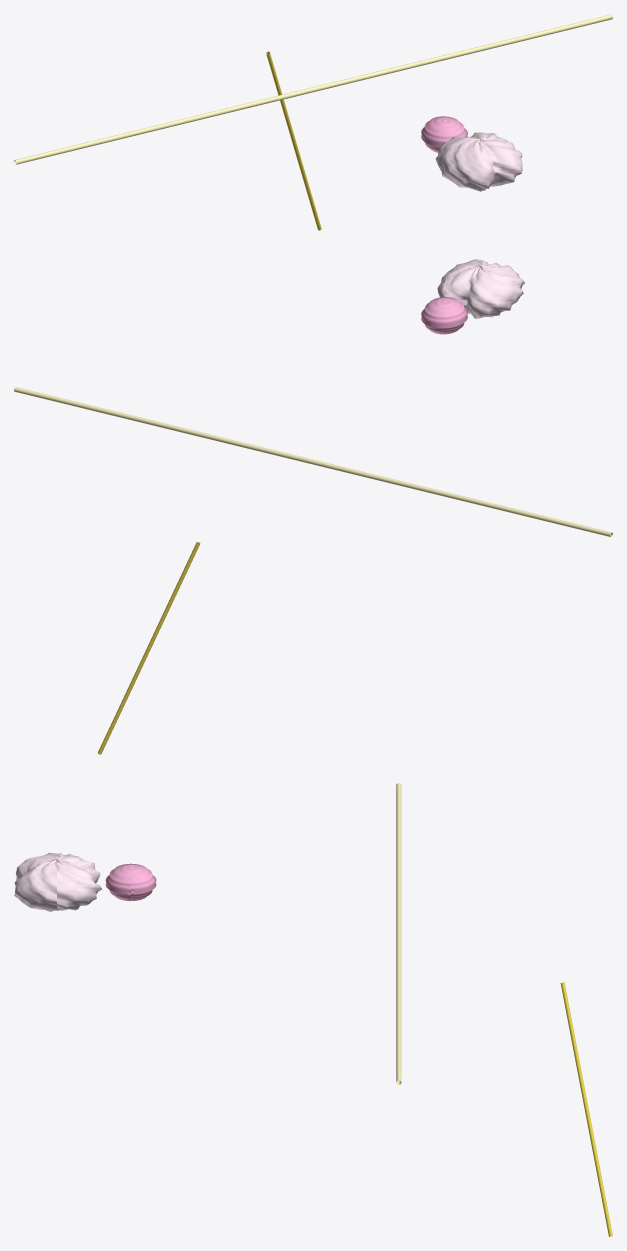
Rendered from nervous.glb.
The picture shows the model from 3 angles, top to bottom: view 1: azimuth 30°, elevation 25°; view 2: azimuth 150°, elevation 25°; view 3: azimuth 270°, elevation 25°; orthographic projection. The views are drawn at different scales.
Parts seen in each view (by area): view 1: Mesh_Ovine_Cerebrum, Mesh_Ovine_MedullaSpinalis, Mesh_Ovine_Cerebellum, Mesh_Ovine_NervusIschiadicus; view 2: Mesh_Ovine_Cerebrum, Mesh_Ovine_MedullaSpinalis, Mesh_Ovine_Cerebellum, Mesh_Ovine_NervusIschiadicus; view 3: Mesh_Ovine_Cerebrum, Mesh_Ovine_MedullaSpinalis, Mesh_Ovine_Cerebellum, Mesh_Ovine_NervusIschiadicus.
Part boxes in pixels (x1,y1,x2,y2): Mesh_Ovine_Cerebrum: (435, 132, 522, 191); Mesh_Ovine_MedullaSpinalis: (14, 14, 612, 164); Mesh_Ovine_Cerebellum: (421, 116, 467, 152); Mesh_Ovine_NervusIschiadicus: (266, 51, 321, 230); Mesh_Ovine_Cerebrum: (437, 259, 524, 319); Mesh_Ovine_MedullaSpinalis: (14, 387, 612, 537); Mesh_Ovine_Cerebellum: (421, 297, 467, 334); Mesh_Ovine_NervusIschiadicus: (98, 542, 200, 754); Mesh_Ovine_Cerebrum: (14, 852, 101, 911); Mesh_Ovine_MedullaSpinalis: (396, 783, 401, 1084); Mesh_Ovine_Cerebellum: (105, 863, 156, 900); Mesh_Ovine_NervusIschiadicus: (560, 982, 612, 1236).
Bounding box in the file's own units: 1.24 × 0.6272 × 1.05.
